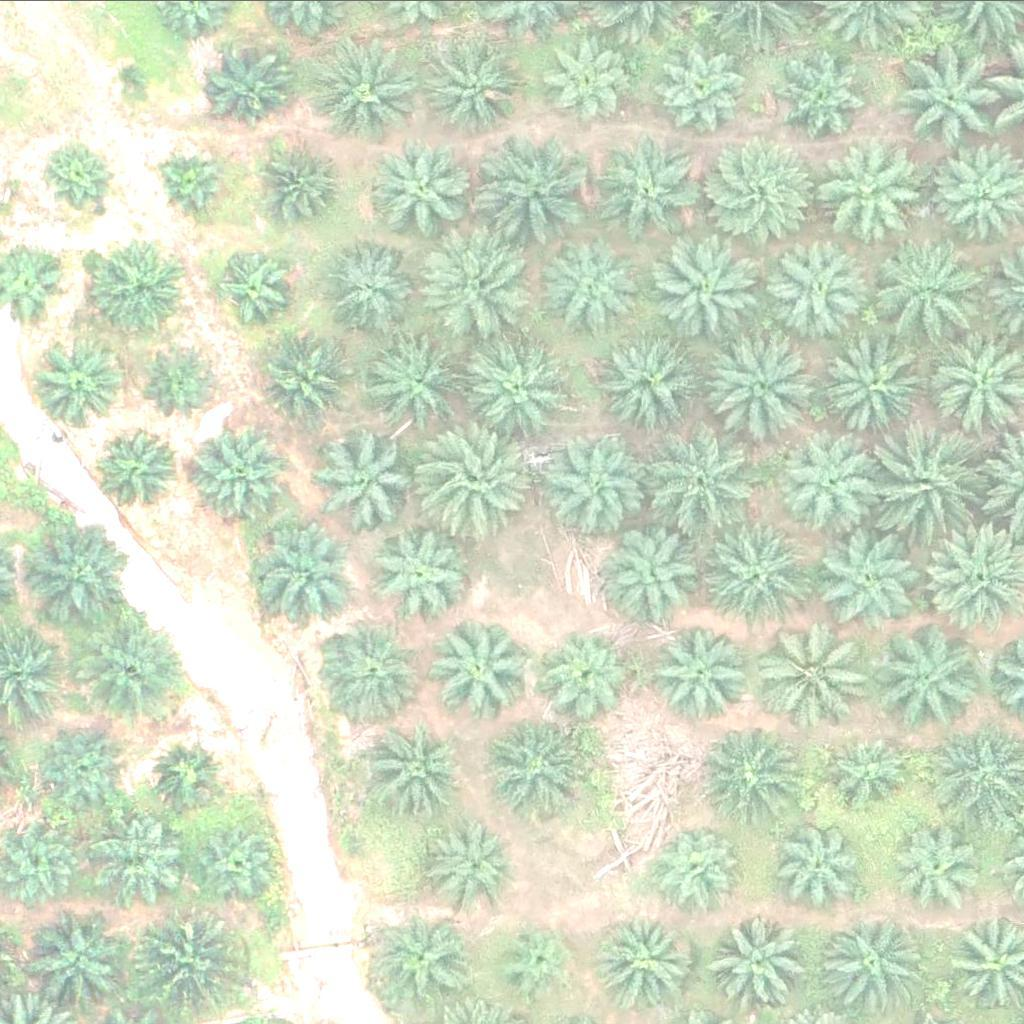Kelapa_Sawit: (418, 231, 532, 344), (82, 612, 195, 725), (875, 429, 988, 542), (876, 622, 989, 735), (696, 139, 809, 252), (653, 232, 766, 345), (697, 521, 810, 634), (474, 135, 588, 247), (128, 900, 241, 1012), (26, 520, 139, 632), (874, 231, 987, 343), (702, 327, 815, 439), (647, 423, 760, 535), (537, 429, 650, 541), (417, 422, 530, 534), (760, 613, 873, 725), (30, 910, 131, 1010), (374, 907, 475, 1007), (97, 812, 198, 912), (96, 240, 197, 340), (376, 139, 477, 239), (313, 427, 414, 527), (252, 529, 353, 629), (317, 621, 418, 721), (366, 721, 467, 821), (767, 45, 868, 145), (817, 146, 918, 246), (766, 237, 867, 337), (537, 238, 638, 338), (467, 339, 568, 439), (600, 335, 701, 435), (828, 340, 929, 440), (783, 431, 884, 531), (604, 524, 705, 624), (818, 531, 919, 631), (652, 619, 753, 719), (427, 616, 528, 716), (487, 720, 588, 820), (318, 39, 418, 139), (199, 424, 299, 524), (368, 525, 468, 625), (906, 52, 1006, 152), (648, 32, 748, 132), (422, 36, 522, 136), (599, 141, 699, 241), (319, 236, 419, 336), (374, 329, 474, 429), (706, 725, 806, 825), (595, 911, 695, 1011), (708, 911, 808, 1011), (823, 912, 923, 1012), (142, 728, 230, 816), (201, 40, 289, 128), (898, 828, 986, 916), (543, 32, 631, 120), (819, 728, 907, 816), (429, 818, 517, 906), (197, 816, 285, 903), (38, 723, 126, 810), (264, 337, 352, 424), (265, 141, 353, 228), (33, 342, 121, 429), (96, 424, 184, 511), (539, 629, 627, 716), (773, 822, 861, 909), (650, 825, 738, 912), (499, 923, 575, 998), (218, 251, 294, 326), (158, 145, 234, 220), (41, 139, 117, 214), (149, 341, 224, 416), (102, 53, 152, 103)
